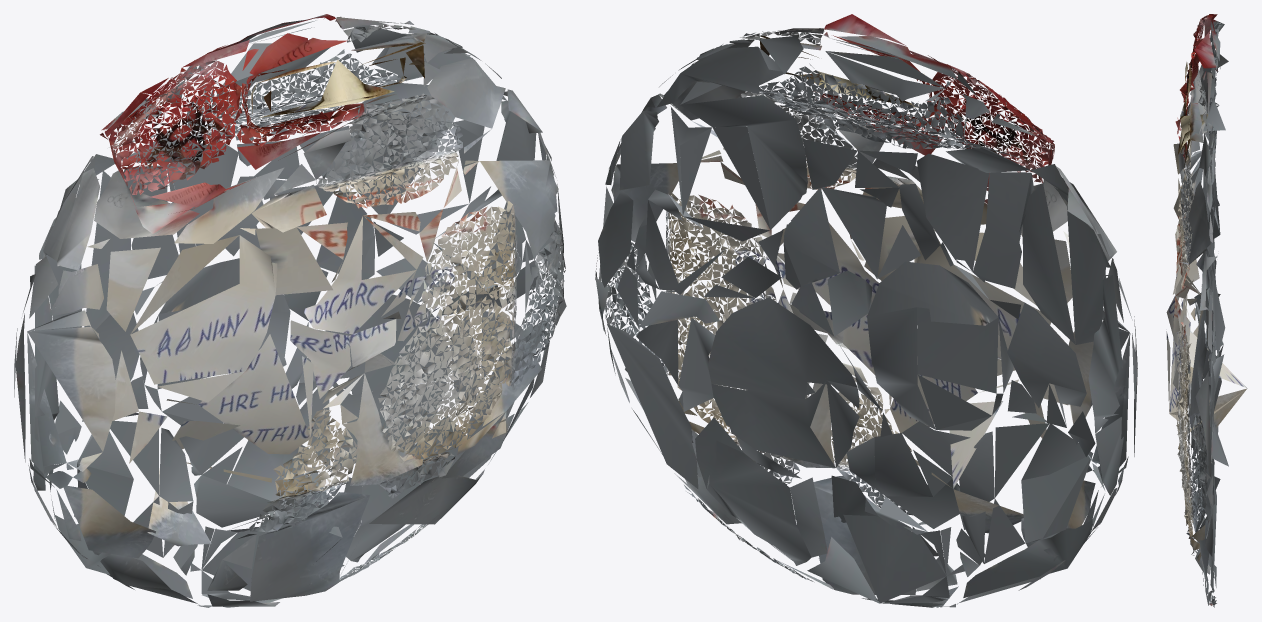
Rendered from drop_frozen_letter.glb.
3 views of the same model, side by side, from view 1: azimuth 30°, elevation 25°; view 2: azimuth 150°, elevation 25°; view 3: azimuth 270°, elevation 25° (orthographic). The views are drawn at different scales.
Parts seen in each view (by area): view 1: node_0; view 2: node_0; view 3: node_0.
Part boxes in pixels (<box>): node_0: <box>14,14,566,607</box>; node_0: <box>595,14,1137,607</box>; node_0: <box>1166,14,1247,607</box>.
Size of the model in its own units: 1.17 by 1.19 by 0.1611.
Materials: 1 (1 with a texture image).
